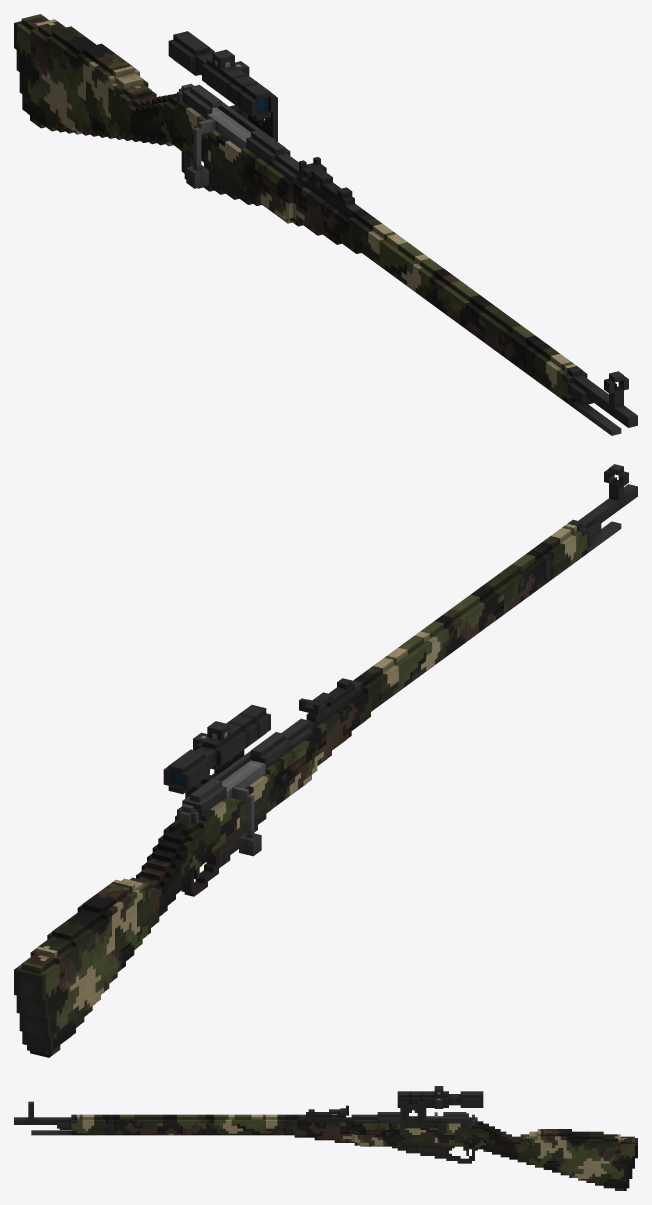
Rendered from RD_MOSIN_MILITARY1945.glb.
3 views of the same model, one above another, from view 1: azimuth 30°, elevation 25°; view 2: azimuth 150°, elevation 25°; view 3: azimuth 270°, elevation 25° (orthographic). The views are drawn at different scales.
Visible parts, largest first — view 1: MOSIN, MOSIN_NAGANT_SCOPE, MOSIN_NAGANT_BOLT_P1; view 2: MOSIN, MOSIN_NAGANT_SCOPE, MOSIN_NAGANT_BOLT_P1, MOSIN_NAGANT_BOLT_P2; view 3: MOSIN, MOSIN_NAGANT_SCOPE, MOSIN_NAGANT_BOLT_P2.
Boxes of the visible parts, bbox=[...] form: MOSIN: bbox=[14, 14, 637, 435]; MOSIN_NAGANT_SCOPE: bbox=[168, 31, 277, 141]; MOSIN_NAGANT_BOLT_P1: bbox=[186, 107, 250, 188]; MOSIN: bbox=[14, 464, 637, 1057]; MOSIN_NAGANT_SCOPE: bbox=[163, 705, 270, 798]; MOSIN_NAGANT_BOLT_P1: bbox=[222, 760, 265, 856]; MOSIN_NAGANT_BOLT_P2: bbox=[177, 778, 221, 826]; MOSIN: bbox=[14, 1101, 637, 1190]; MOSIN_NAGANT_SCOPE: bbox=[397, 1086, 483, 1133]; MOSIN_NAGANT_BOLT_P2: bbox=[443, 1112, 477, 1125].
Size of the model in its own units: 0.128 by 0.3839 by 2.15.
1 material, 1 textured.
